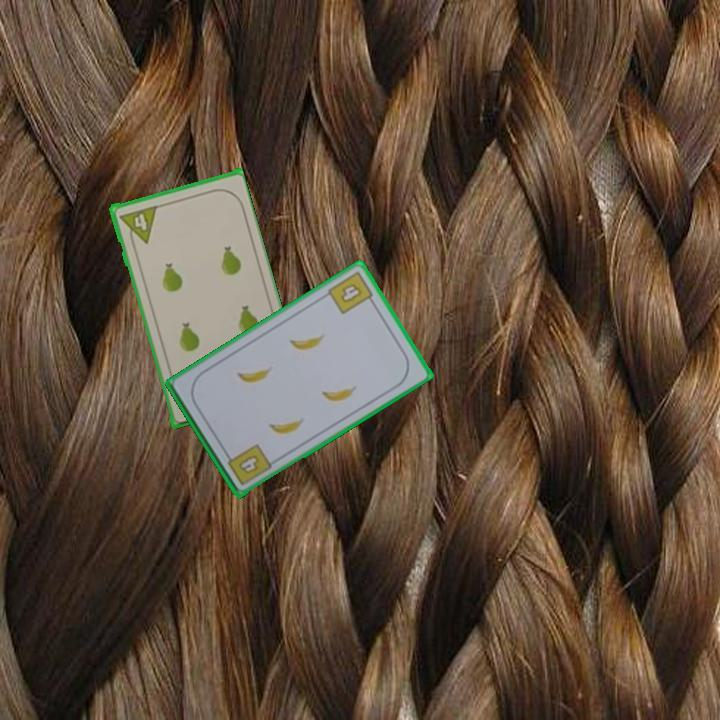4b: (324, 267, 378, 317), (222, 440, 274, 489)
4p: (115, 202, 159, 249)
